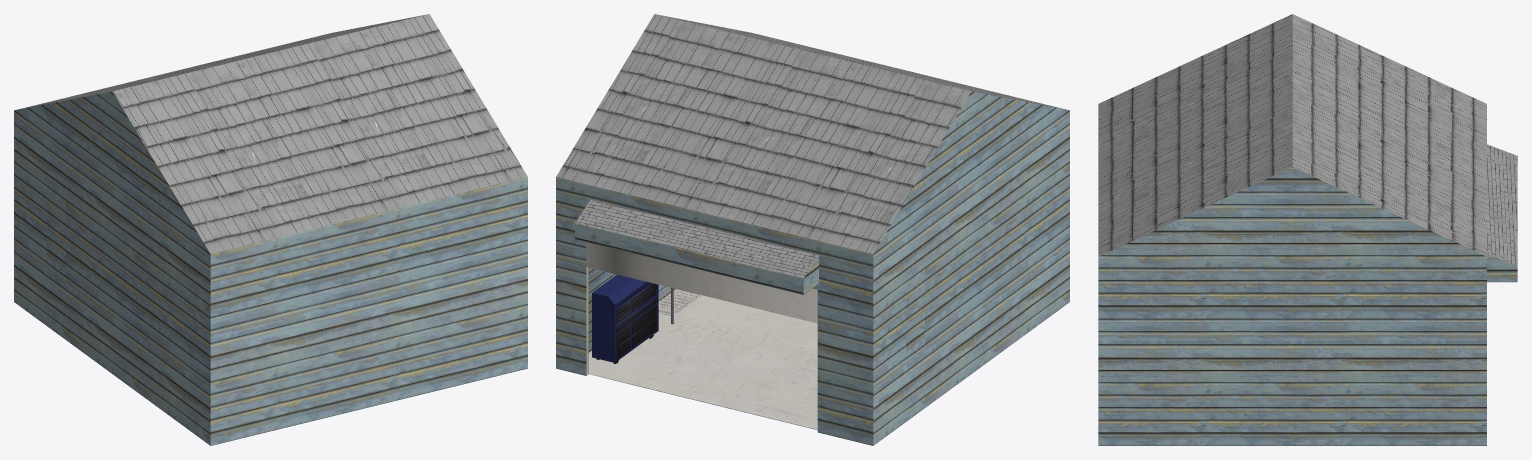
Rendered from Taller.fbx.
The picture shows the model from 3 angles, left to right: view 1: azimuth 30°, elevation 25°; view 2: azimuth 150°, elevation 25°; view 3: azimuth 270°, elevation 25°; orthographic projection.
Visible parts, largest first — view 1: Taller; view 2: Taller; view 3: Taller.
Part boxes in pixels (x1,y1,x2,y2): Taller: (14, 14, 527, 445); Taller: (556, 14, 1069, 445); Taller: (1098, 14, 1517, 445).
Bounding box in the file's own units: 6.89 × 7.98 × 5.86.
10 materials, 10 textured.
